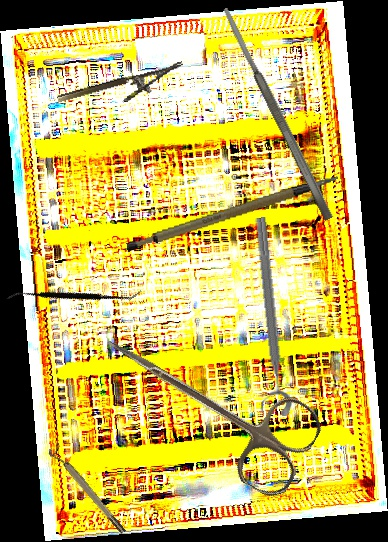Fixation Ring: (239, 216, 293, 419), (46, 442, 128, 539)
Iris Scissors: (81, 303, 329, 504)
Needle Holder: (56, 61, 189, 119)
Scalpel Handle: (121, 175, 345, 255)
Spatula Surgical: (220, 5, 335, 222), (5, 235, 143, 355)
